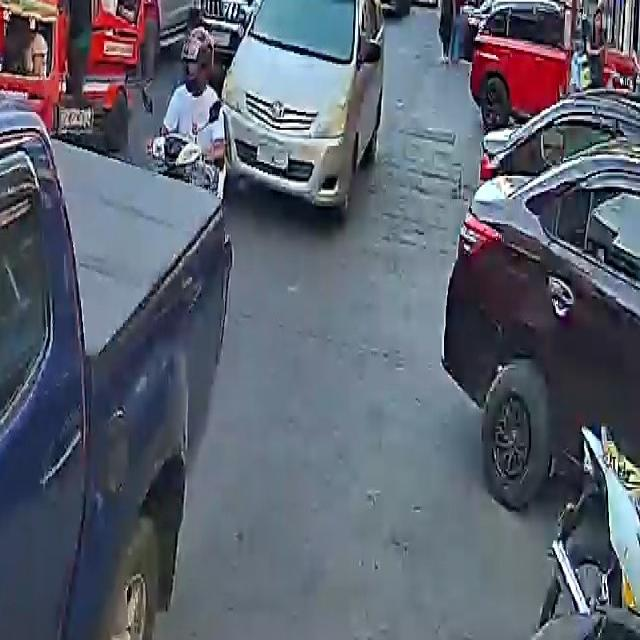car: (440, 103, 640, 620), (218, 0, 386, 212), (195, 0, 307, 44), (111, 0, 207, 50), (352, 0, 411, 16), (404, 0, 439, 5)
